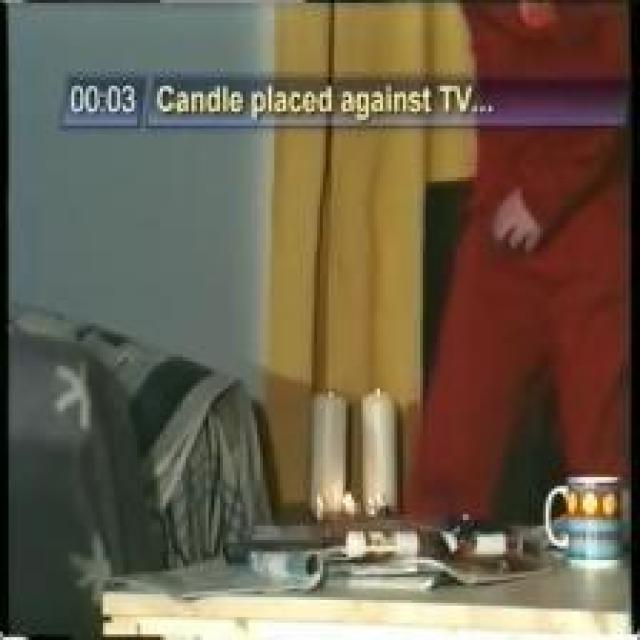other: (448, 242, 624, 445), (266, 139, 416, 375), (306, 386, 394, 504)
